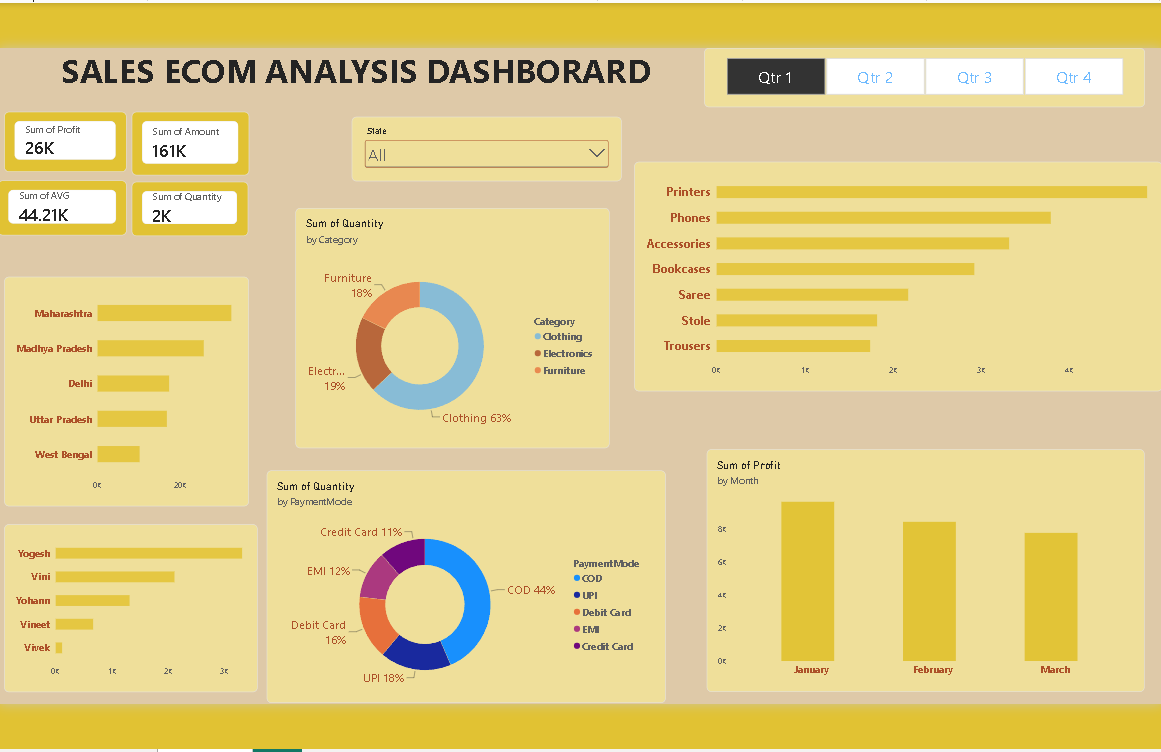

What the dashboard file says about the page in this screenshot:
{"tool":"powerbi","page":{"name":"Page 1","canvas":[1920,1080],"ordinal":0},"visuals":[{"type":"textbox","box":[10.3,0,1158.8,105],"z":0},{"type":"columnChart","fields":{"Category":["orders.Order Date.Variation.Date Hierarchy.Month"],"Y":["Sum(Details.Profit)"]},"box":[1168.9,662.1,721.8,400.3],"z":1000},{"type":"clusteredBarChart","fields":{"Category":["Details.Sub-Category"],"Y":["Sum(Details.Profit)"]},"box":[1049.6,187.4,870.7,378.7],"z":2000},{"type":"donutChart","fields":{"Category":["Details.Category"],"Y":["Sum(Details.Quantity)"]},"box":[489.7,264,517.4,396],"z":3000},{"type":"donutChart","fields":{"Category":["Details.PaymentMode"],"Y":["Sum(Details.Quantity)"]},"box":[442.8,696.2,657.9,383.2],"z":4000},{"type":"cardVisual","fields":{"Data":["Sum(Details.Amount)"]},"box":[220.5,105.1,193.7,105.1],"z":5000},{"type":"cardVisual","fields":{"Data":["Sum(Details.Quantity)"]},"box":[220.5,220.5,191.6,89.4],"z":6000},{"type":"cardVisual","fields":{"Data":["Sum(Details.Profit)"]},"box":[10.3,105.1,201.9,98.9],"z":7000},{"type":"cardVisual","fields":{"Data":["Sum(Details.AVG)"]},"box":[0,218.4,212.2,90.7],"z":8000},{"type":"clusteredBarChart","fields":{"Category":["orders.State"],"Y":["Sum(Details.Amount)"]},"box":[10.6,376.8,403.6,378.2],"z":8001},{"type":"clusteredBarChart","fields":{"Category":["orders.CustomerName"],"Y":["Sum(Details.Amount)"]},"box":[10.6,785.6,417.3,276.8],"z":8002},{"type":"slicer","fields":{"Values":["orders.Order Date.Variation.Date Hierarchy.Quarter"]},"box":[1164.6,0,726,97.9],"z":8003},{"type":"slicer","fields":{"Values":["orders.State"]},"box":[583.4,112.8,445,106.5],"z":8004}]}

Visuals, with their boxes on the page's 1920x1080 design canvas (x1, y1, x2, y2). These are canvas units, not pixel positions in the 1161x752 screenshot, which may show the page scaled, cropped or inside an application window:
textbox: {"left": 10, "top": 0, "right": 1169, "bottom": 105}
columnChart - orders.Order Date.Variation.Date Hierarchy.Month x Sum(Details.Profit): {"left": 1169, "top": 662, "right": 1891, "bottom": 1062}
clusteredBarChart - Details.Sub-Category x Sum(Details.Profit): {"left": 1050, "top": 187, "right": 1920, "bottom": 566}
donutChart - Details.Category x Sum(Details.Quantity): {"left": 490, "top": 264, "right": 1007, "bottom": 660}
donutChart - Details.PaymentMode x Sum(Details.Quantity): {"left": 443, "top": 696, "right": 1101, "bottom": 1079}
cardVisual - Sum(Details.Amount): {"left": 220, "top": 105, "right": 414, "bottom": 210}
cardVisual - Sum(Details.Quantity): {"left": 220, "top": 220, "right": 412, "bottom": 310}
cardVisual - Sum(Details.Profit): {"left": 10, "top": 105, "right": 212, "bottom": 204}
cardVisual - Sum(Details.AVG): {"left": 0, "top": 218, "right": 212, "bottom": 309}
clusteredBarChart - orders.State x Sum(Details.Amount): {"left": 11, "top": 377, "right": 414, "bottom": 755}
clusteredBarChart - orders.CustomerName x Sum(Details.Amount): {"left": 11, "top": 786, "right": 428, "bottom": 1062}
slicer - orders.Order Date.Variation.Date Hierarchy.Quarter: {"left": 1165, "top": 0, "right": 1891, "bottom": 98}
slicer - orders.State: {"left": 583, "top": 113, "right": 1028, "bottom": 219}
